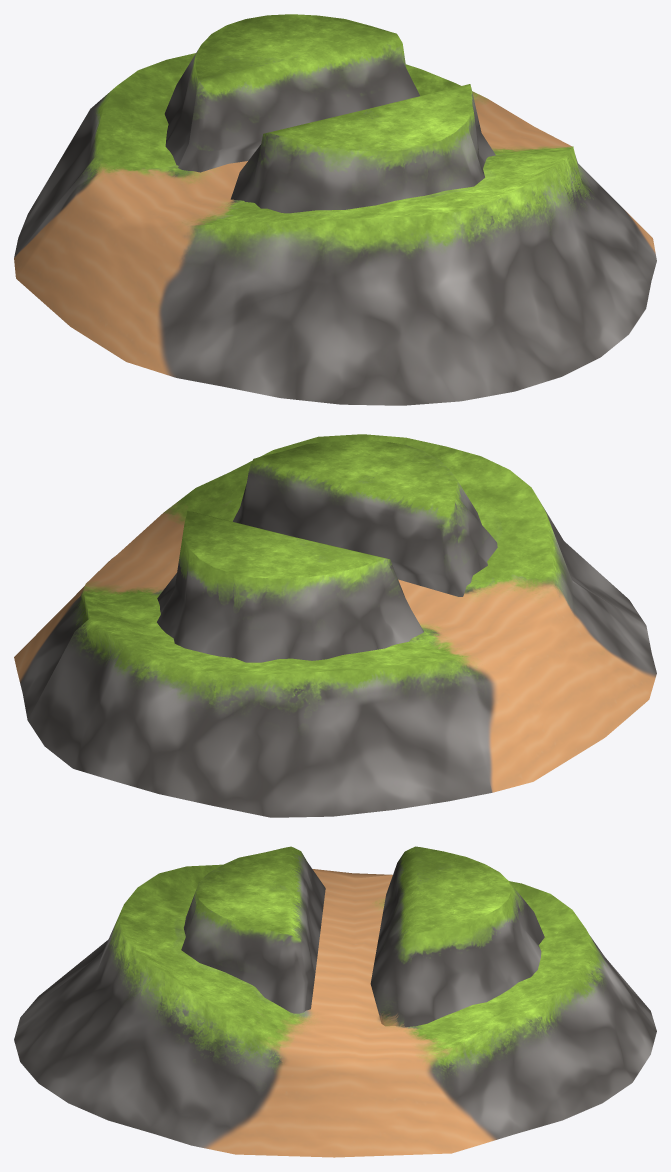
File: low poly island 02 ok.fbx
3 views of the same model, one above another, from view 1: azimuth 30°, elevation 25°; view 2: azimuth 150°, elevation 25°; view 3: azimuth 270°, elevation 25° (orthographic). The views are drawn at different scales.
Visible parts, largest first — view 1: Island_1; view 2: Island_1; view 3: Island_1.
Boxes of the visible parts, x1=… form: Island_1: x1=14, y1=14, x2=656, y2=405; Island_1: x1=14, y1=434, x2=656, y2=817; Island_1: x1=14, y1=846, x2=656, y2=1157.
Size of the model in its own units: 1446 by 437 by 1669.
Materials: 1 (1 with a texture image).
